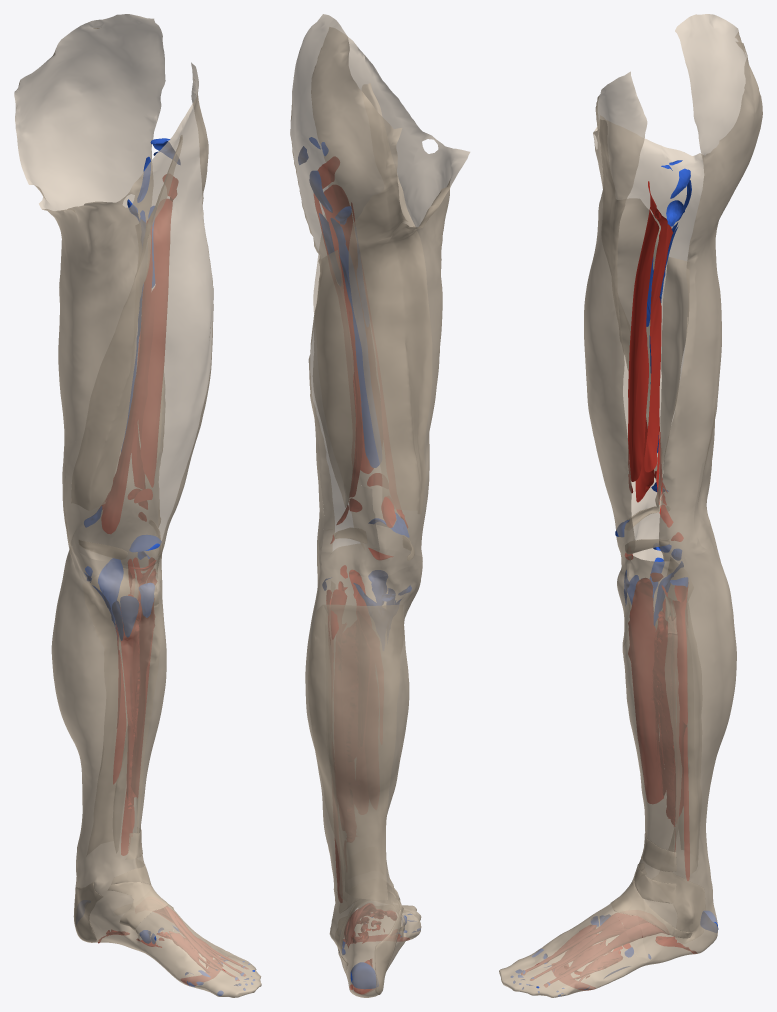
File: muscular.lower_limb_left.glb
3 views of the same model, side by side, from view 1: azimuth 30°, elevation 25°; view 2: azimuth 150°, elevation 25°; view 3: azimuth 270°, elevation 25° (orthographic). The views are drawn at different scales.
Parts seen in each view (by area): view 1: left_fascia_lata, left_crural_fascia, left_medial_femoral_intermuscular_septum, left_transverse_intermuscular_septum_of_leg, left_vastus_intermedius_muscle_origin_femur, left_vastus_medialis_muscle_origin_femur, left_tibialis_anterior_muscle_origin_interosseous_membrane_o, left_superior_fibular_retinaculum, left_tibialis_posterior_muscle_origin_interosseous_membrane_, left_popliteal_fascia, left_plantar_aponeurosis, left_anterior_intermuscular_septum_of_leg (+6 smaller); view 2: left_fascia_lata, left_crural_fascia, left_medial_femoral_intermuscular_septum, left_transverse_intermuscular_septum_of_leg, left_lateral_femoral_intermuscular_septum, left_popliteal_fascia, left_posterior_intermuscular_septum_of_leg, left_adductor_magnus_insertion_femur, left_vastus_intermedius_muscle_origin_femur, left_flexor_retinaculum_of_ankle, left_short_head_of_biceps_femoris_origin_femur, left_triceps_surae_muscle_insertion_calcaneus (+5 smaller); view 3: left_fascia_lata, left_crural_fascia, left_medial_femoral_intermuscular_septum, left_tibialis_anterior_muscle_origin_interosseous_membrane_o, left_vastus_intermedius_muscle_origin_femur, left_lateral_femoral_intermuscular_septum, left_vastus_lateralis_muscle_origin_femur, left_posterior_intermuscular_septum_of_leg, left_extensor_digitorum_brevis, left_anterior_intermuscular_septum_of_leg, left_flexor_retinaculum_of_ankle, left_superior_fibular_retinaculum (+11 smaller).
Part boxes in pixels (x1,y1,x2,y2): left_fascia_lata: (14, 14, 213, 567); left_crural_fascia: (51, 521, 261, 997); left_medial_femoral_intermuscular_septum: (71, 135, 182, 510); left_transverse_intermuscular_septum_of_leg: (82, 568, 138, 854); left_vastus_intermedius_muscle_origin_femur: (141, 199, 172, 487); left_vastus_medialis_muscle_origin_femur: (101, 221, 152, 533); left_tibialis_anterior_muscle_origin_interosseous_membrane_o: (131, 569, 156, 797); left_superior_fibular_retinaculum: (107, 882, 167, 930); left_tibialis_posterior_muscle_origin_interosseous_membrane_: (121, 609, 139, 736); left_popliteal_fascia: (68, 441, 133, 534); left_plantar_aponeurosis: (97, 937, 207, 982); left_anterior_intermuscular_septum_of_leg: (137, 585, 159, 832); left_fascia_lata: (290, 14, 470, 576); left_crural_fascia: (305, 543, 422, 997); left_medial_femoral_intermuscular_septum: (349, 83, 431, 513); left_transverse_intermuscular_septum_of_leg: (323, 605, 403, 899); left_lateral_femoral_intermuscular_septum: (313, 250, 355, 506); left_popliteal_fascia: (320, 473, 383, 577); left_posterior_intermuscular_septum_of_leg: (308, 605, 347, 901); left_adductor_magnus_insertion_femur: (331, 218, 409, 537); left_vastus_intermedius_muscle_origin_femur: (321, 185, 373, 473); left_flexor_retinaculum_of_ankle: (375, 910, 401, 994); left_short_head_of_biceps_femoris_origin_femur: (349, 311, 362, 497); left_triceps_surae_muscle_insertion_calcaneus: (350, 962, 378, 988); left_fascia_lata: (584, 14, 762, 561); left_crural_fascia: (499, 511, 736, 997); left_medial_femoral_intermuscular_septum: (599, 120, 663, 480); left_tibialis_anterior_muscle_origin_interosseous_membrane_o: (628, 578, 665, 803); left_vastus_intermedius_muscle_origin_femur: (628, 207, 659, 481); left_lateral_femoral_intermuscular_septum: (655, 256, 689, 511); left_vastus_lateralis_muscle_origin_femur: (644, 181, 672, 472); left_posterior_intermuscular_septum_of_leg: (685, 603, 701, 873); left_extensor_digitorum_brevis: (521, 913, 668, 987); left_anterior_intermuscular_septum_of_leg: (665, 595, 681, 860); left_flexor_retinaculum_of_ankle: (652, 871, 704, 942); left_superior_fibular_retinaculum: (610, 869, 692, 938).
Size of the model in its own units: 0.1706 by 1.02 by 0.2567.
